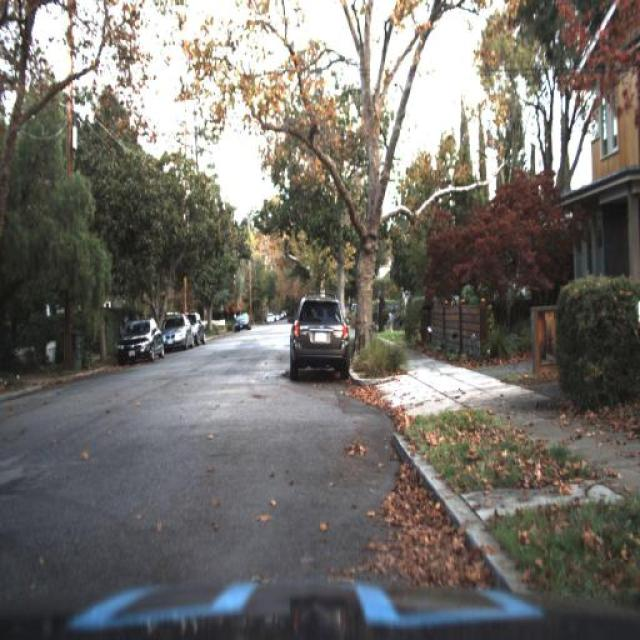car: (283, 293, 355, 381), (114, 310, 162, 366), (160, 312, 190, 352), (190, 311, 206, 347), (233, 309, 252, 332)
